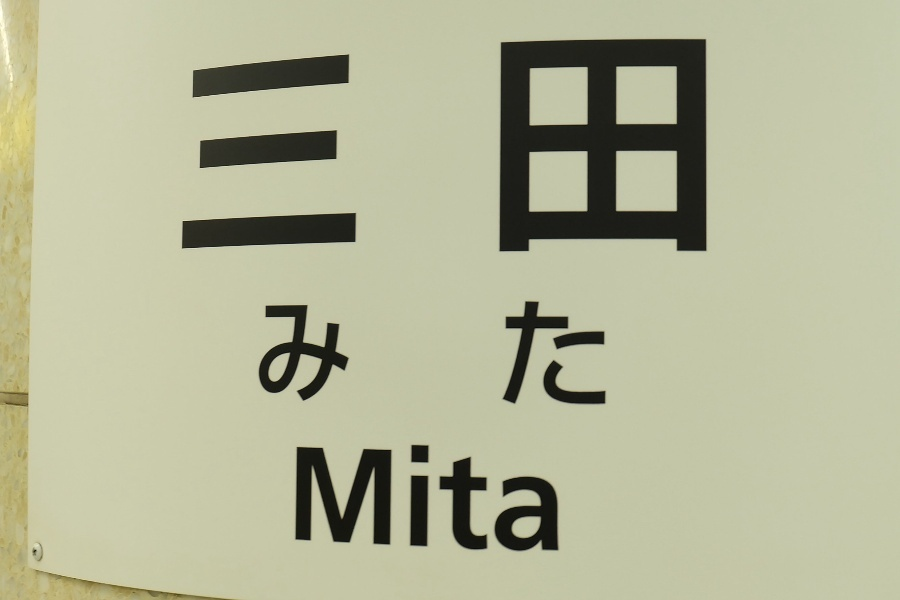text: (193, 31, 208, 259), (209, 31, 224, 259), (225, 31, 240, 259), (241, 31, 256, 259), (257, 31, 272, 259), (273, 31, 288, 259), (289, 31, 304, 259), (305, 31, 320, 259), (321, 31, 336, 259), (337, 31, 352, 259), (353, 31, 368, 259), (369, 31, 384, 259), (385, 31, 400, 259), (401, 31, 416, 259), (417, 31, 432, 259), (433, 31, 448, 259), (449, 31, 464, 259), (465, 31, 480, 259), (481, 31, 496, 259), (497, 31, 512, 259), (513, 31, 528, 259), (529, 31, 544, 259), (545, 31, 560, 259), (561, 31, 576, 259), (577, 31, 592, 259), (593, 31, 608, 259), (609, 31, 624, 259), (625, 31, 640, 259), (641, 31, 656, 259), (657, 31, 672, 259), (673, 31, 688, 259), (689, 31, 704, 259), (705, 31, 714, 259), (305, 445, 320, 553), (321, 445, 336, 553), (337, 445, 352, 553), (353, 445, 368, 553), (369, 445, 384, 553), (385, 445, 400, 553), (401, 445, 416, 553), (417, 445, 432, 553), (433, 445, 448, 553), (449, 445, 464, 553), (465, 445, 480, 553), (481, 445, 496, 553), (497, 445, 512, 553), (513, 445, 528, 553), (529, 445, 544, 553), (545, 445, 560, 553), (273, 303, 288, 409), (289, 303, 304, 409), (305, 303, 320, 409), (321, 303, 336, 409), (337, 303, 352, 409), (353, 303, 368, 409), (369, 303, 384, 409), (385, 303, 400, 409), (401, 303, 416, 409), (417, 303, 432, 409), (433, 303, 448, 409), (449, 303, 464, 409), (465, 303, 480, 409), (481, 303, 496, 409), (497, 303, 512, 409), (513, 303, 528, 409), (529, 303, 544, 409), (545, 303, 560, 409), (561, 303, 576, 409), (577, 303, 592, 409), (593, 303, 608, 409), (297, 445, 304, 553), (265, 303, 272, 409), (191, 31, 192, 259), (561, 445, 562, 553)
